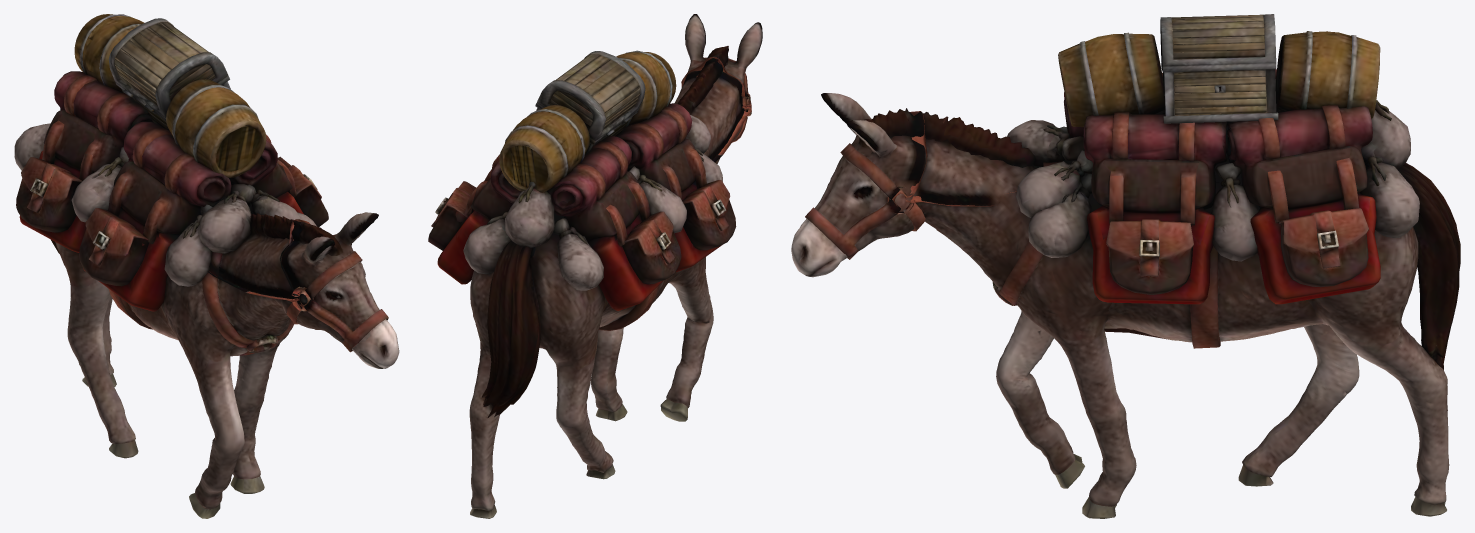
The model's file is MZ4250 - Pack Mule.glb.
The picture shows the model from 3 angles, left to right: view 1: azimuth 30°, elevation 25°; view 2: azimuth 150°, elevation 25°; view 3: azimuth 270°, elevation 25°; orthographic projection. The views are drawn at different scales.
Visible parts, largest first — view 1: Pack Mule.001; view 2: Pack Mule.001; view 3: Pack Mule.001.
Boxes of the visible parts, <box> form: Pack Mule.001: <box>14,14,399,518</box>; Pack Mule.001: <box>428,14,762,518</box>; Pack Mule.001: <box>791,14,1460,518</box>.
Size of the model in its own units: 19.55 by 32.98 by 41.11.
Materials: 1 (1 with a texture image).
